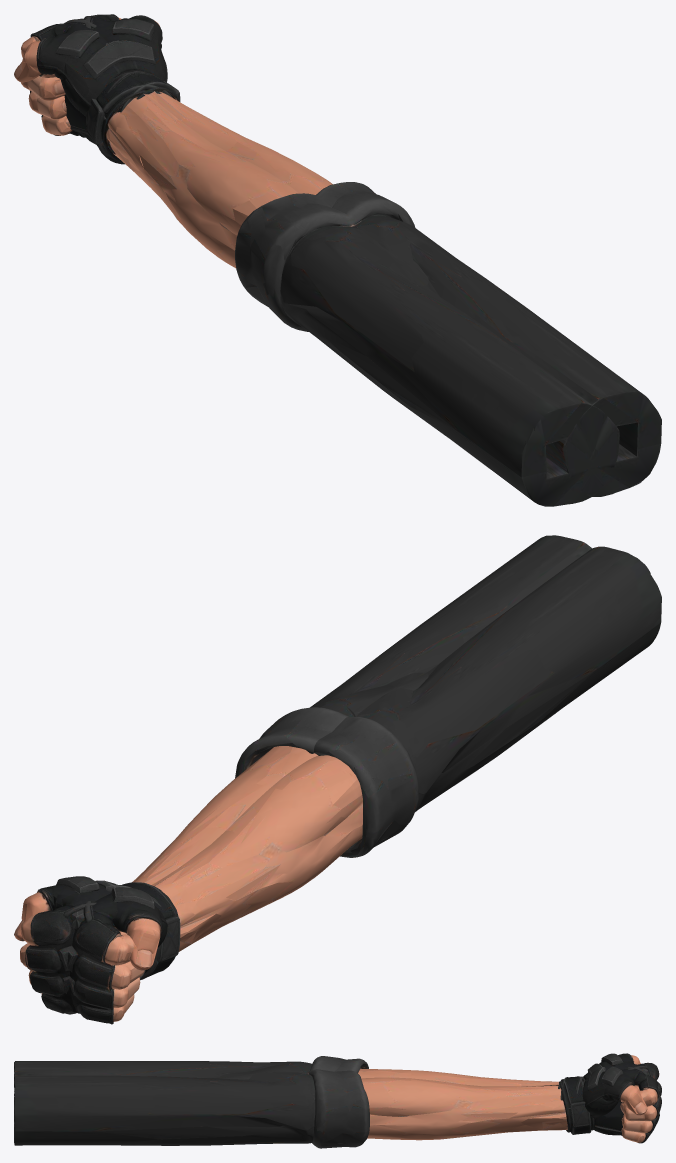
Rendered from arm.glb.
3 views of the same model, one above another, from view 1: azimuth 30°, elevation 25°; view 2: azimuth 150°, elevation 25°; view 3: azimuth 270°, elevation 25° (orthographic). The views are drawn at different scales.
Parts seen in each view (by area): view 1: hand_l, hand_r; view 2: hand_l, hand_r; view 3: hand_r, hand_l.
Boxes of the visible parts, x1=… form: hand_l: x1=64, y1=14, x2=619, y2=506; hand_r: x1=14, y1=19, x2=661, y2=496; hand_l: x1=14, y1=546, x2=661, y2=1014; hand_r: x1=62, y1=535, x2=591, y2=1024; hand_r: x1=14, y1=1053, x2=661, y2=1148; hand_l: x1=14, y1=1056, x2=661, y2=1143.
Bounding box in the file's own units: 0.1324 × 0.1024 × 0.7936.
Materials: 1 (1 with a texture image).
